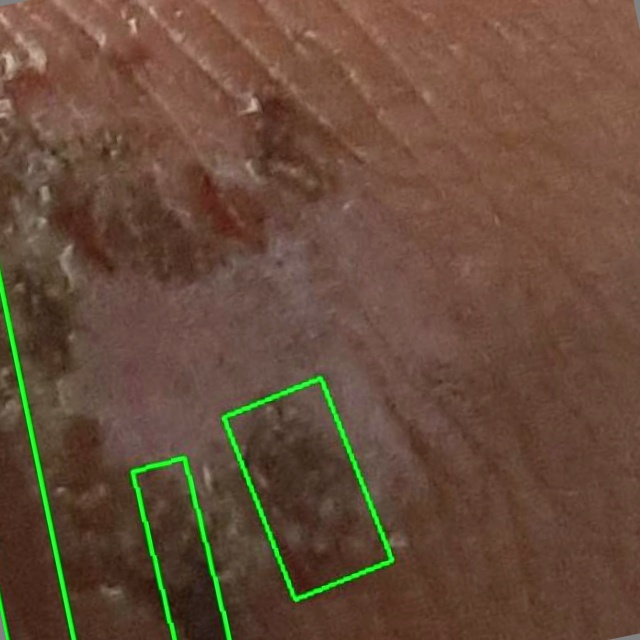Contact Dermatitis: (222, 379, 392, 600), (132, 459, 229, 639)
